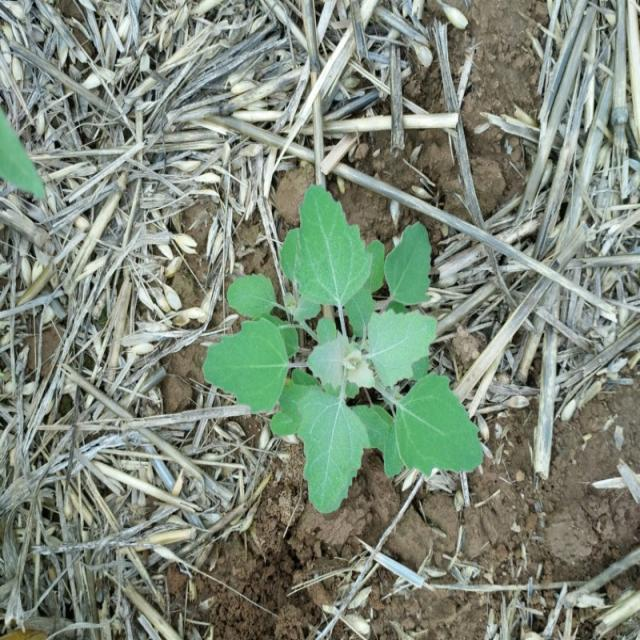goosefoots: (198, 182, 480, 512)
